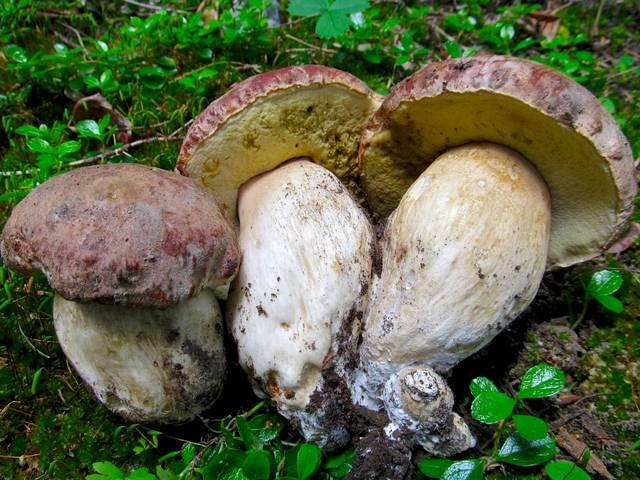edible_mushroom: (348, 53, 635, 415), (183, 66, 398, 425), (0, 161, 241, 425)
